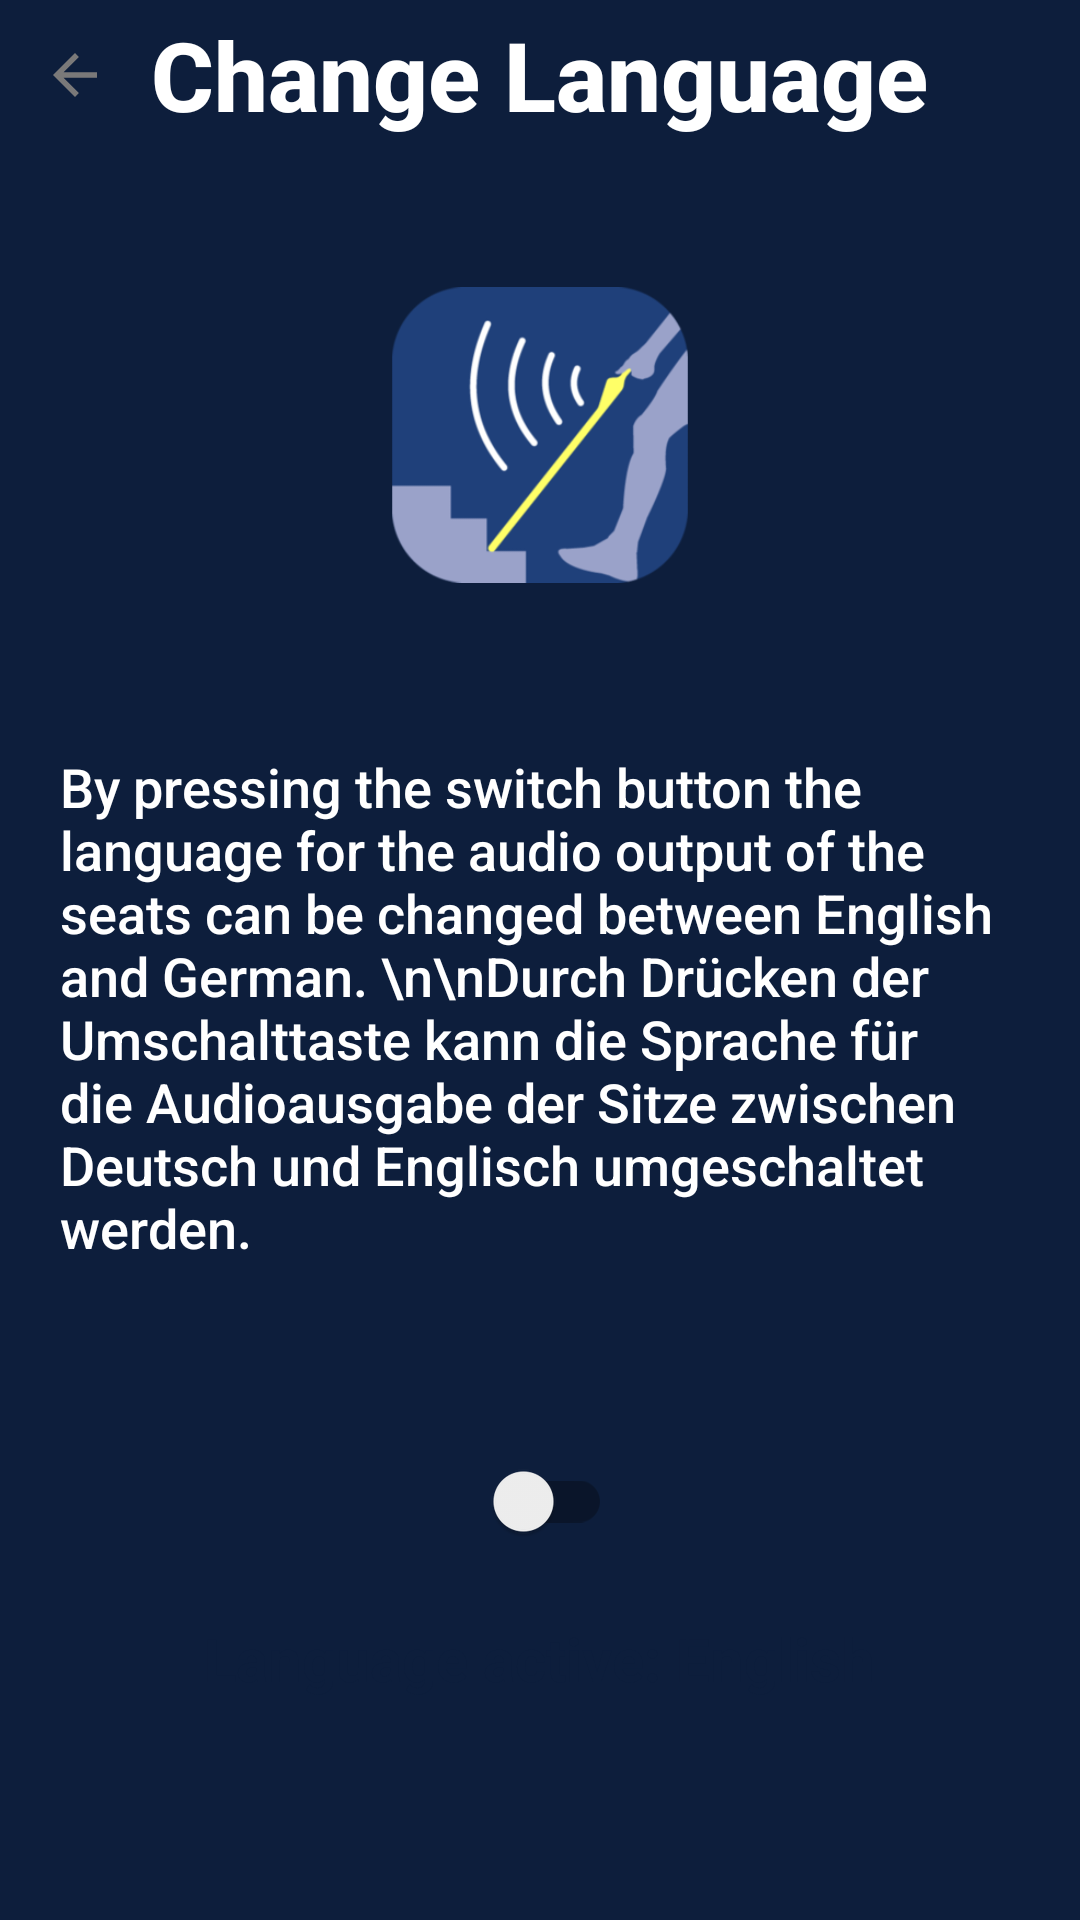

Where icons sit on this 1080 × 1920 app screen, as (x1, y1, x2, y2):
arrow back: (53, 53, 97, 97)
